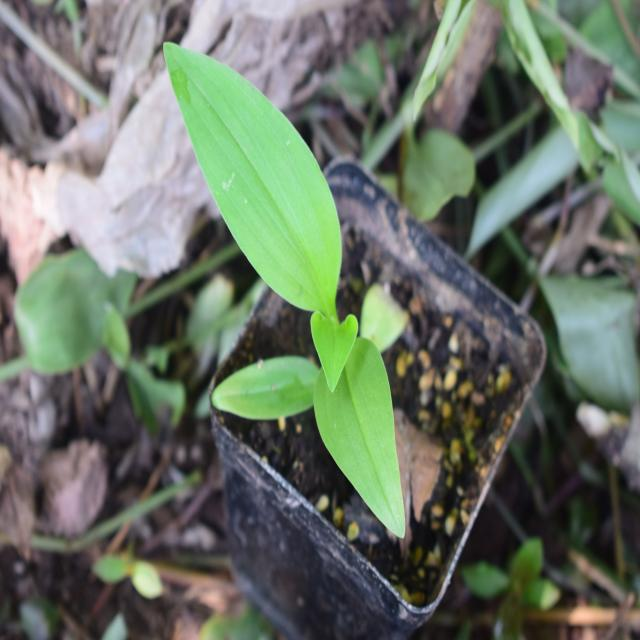Common Dayflower: (161, 34, 418, 537)
